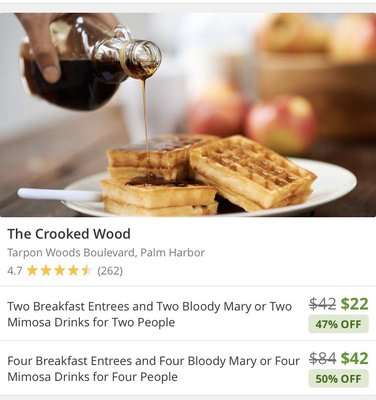steak: (241, 92, 322, 157)
